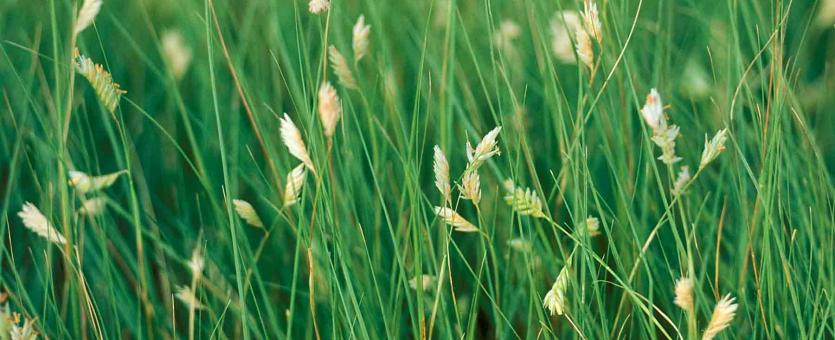grass: (1, 1, 835, 340)
